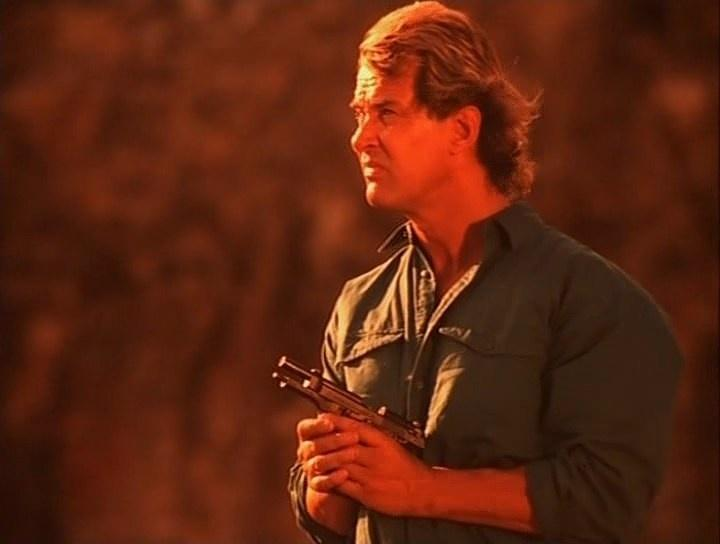gun: (269, 347, 436, 522)
